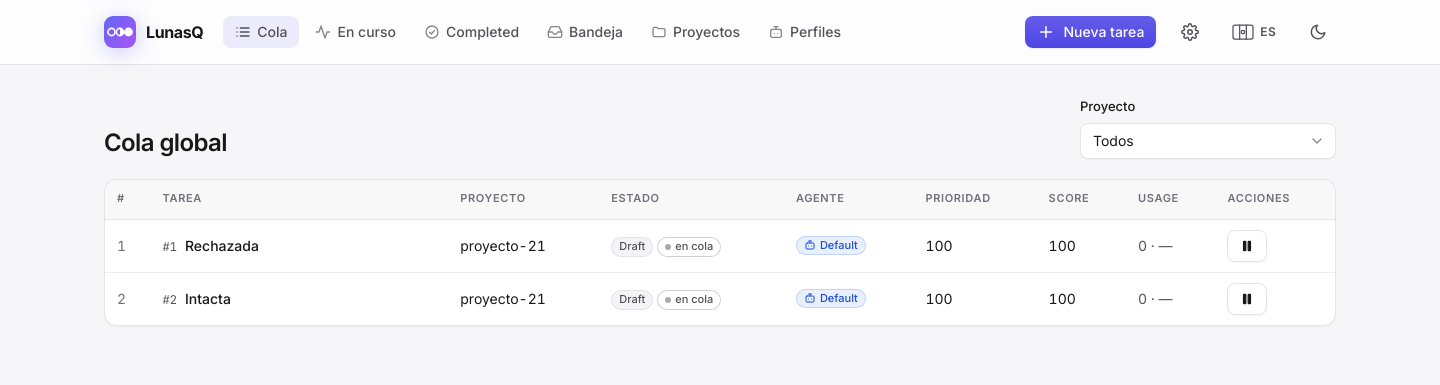
Test: global queue › Acciones column › if the API rejects the action it shows the error with role alert in that row
Click the button named "Pausar tarea Rechazada". click: click(1247, 246)
box: [1227,230,1267,262]
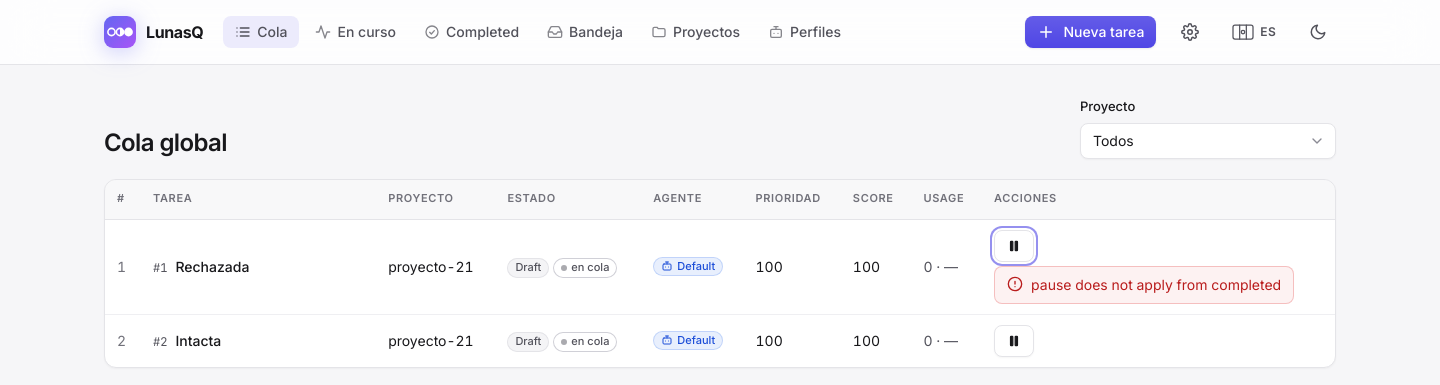
Expected: the message shows "pause does not apply", [1031,276,1281,293]
